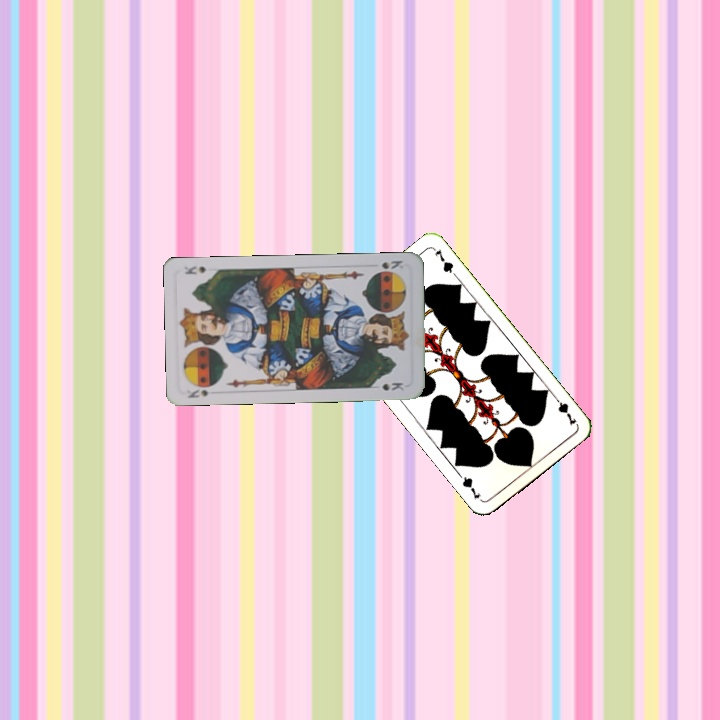G7: (550, 391, 579, 428)
SK: (184, 380, 219, 401), (371, 256, 405, 275)
